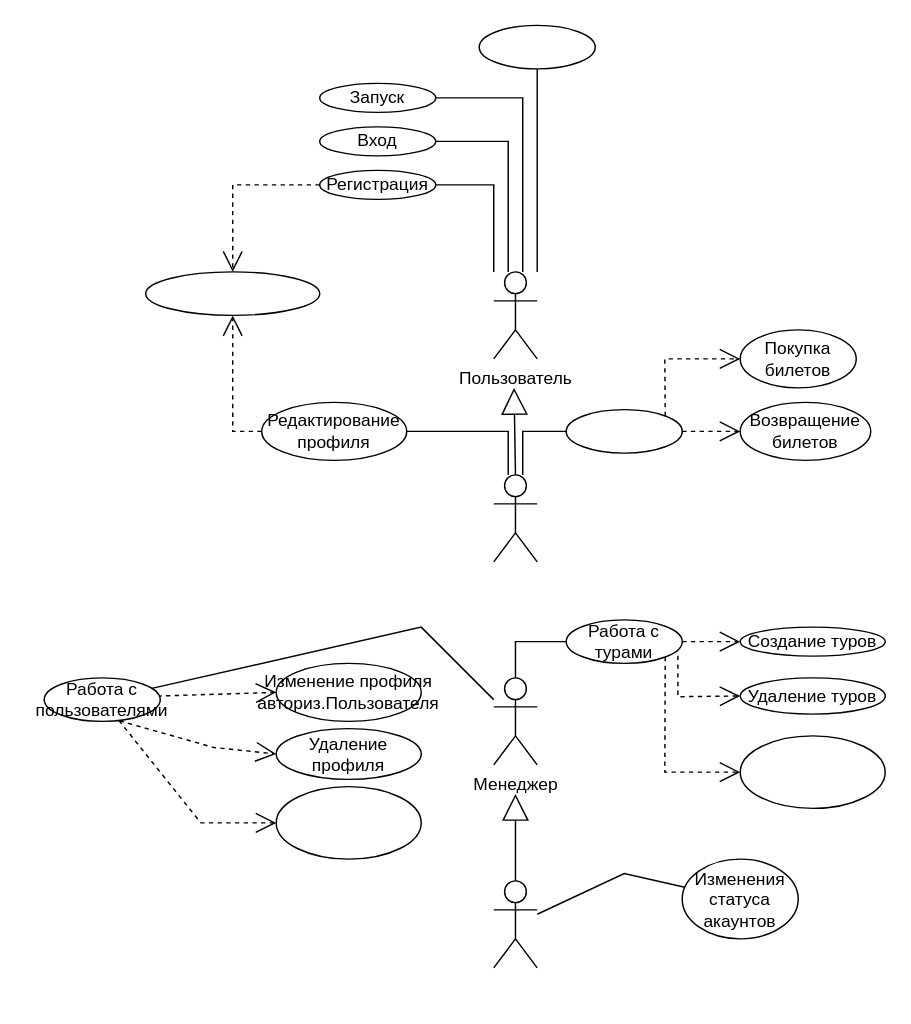
Some shapes in this 911 by 1024 pixel diagram are drawn without their labels. The shapes that lost their labels are listed below. From the top down, each one's centre as x and y in pixels, then its label:
At [536,46]: "Просмотр туров".
At [232,292]: "Подтверждение номера".
At [623,430]: "Работа с билетами".
At [514,517]: "Авторизированный".
At [812,771]: "Редактирование туров".
At [348,822]: "Выдача Блокировок акаунта".
At [514,923]: "Администратор".
